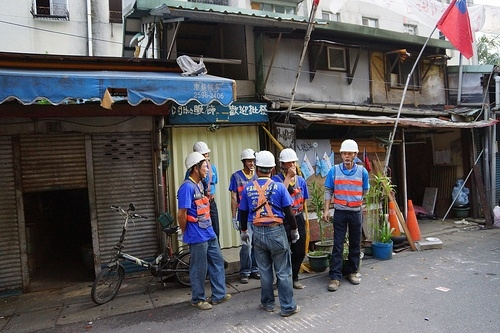People: (240, 150, 299, 316), (177, 152, 230, 309), (323, 139, 368, 290), (278, 148, 308, 288), (193, 141, 219, 245), (229, 148, 257, 230), (239, 243, 259, 283)
helmet: (184, 152, 205, 169), (255, 150, 275, 167), (339, 139, 358, 152), (279, 148, 297, 161), (192, 141, 210, 154), (240, 148, 254, 159)
